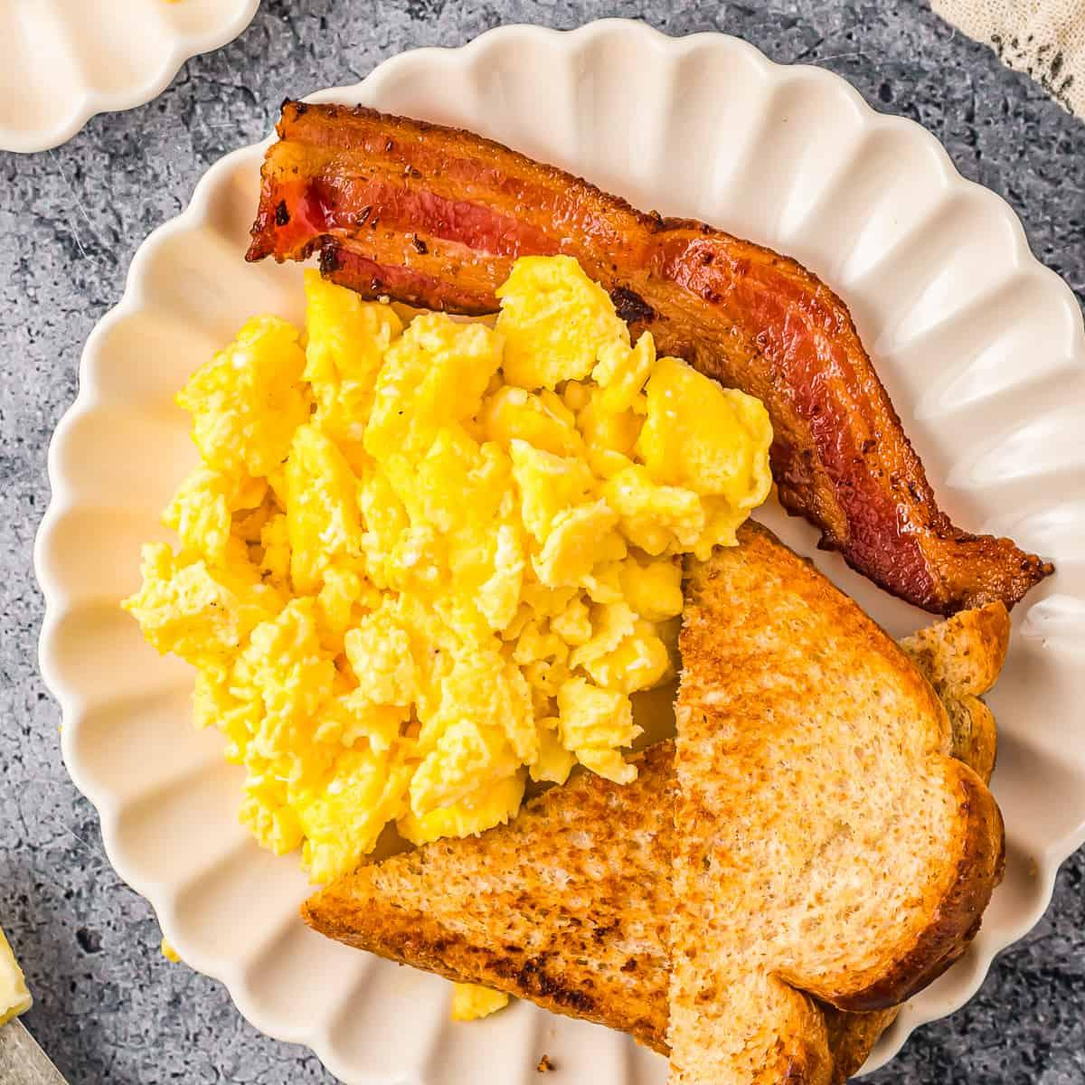eggs: (116, 272, 712, 774)
